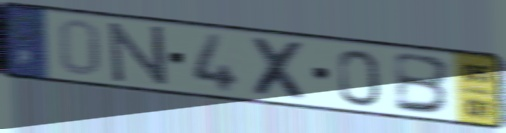0: (334, 47, 385, 109), (55, 17, 104, 79)
4: (190, 30, 242, 95)
B: (393, 50, 455, 117)
N: (105, 21, 171, 88)
X: (247, 34, 315, 105)
